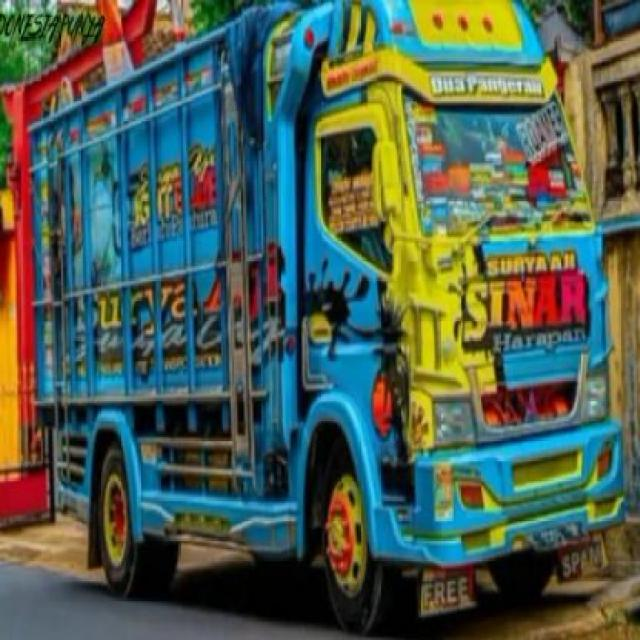truck: (27, 1, 624, 639)
